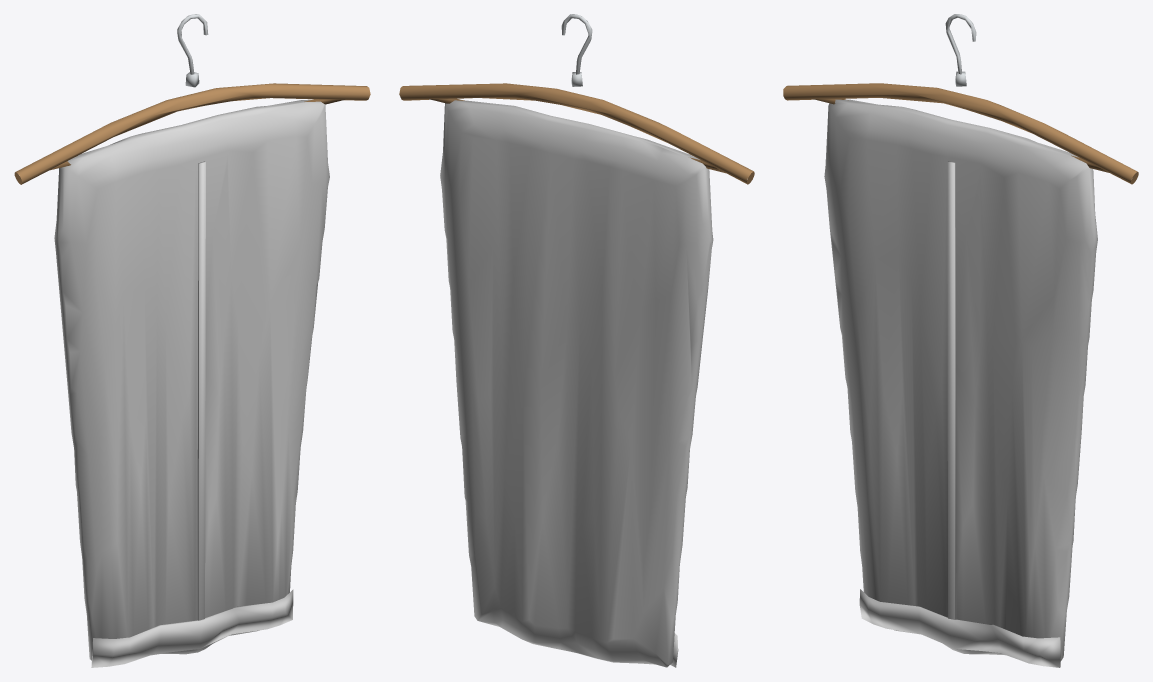
The model's file is trousers-lightweight-b6b6744ce2.glb.
The picture shows the model from 3 angles, left to right: view 1: azimuth 30°, elevation 25°; view 2: azimuth 150°, elevation 25°; view 3: azimuth 330°, elevation 25°; orthographic projection.
Parts seen in each view (by area): view 1: trousers; view 2: trousers; view 3: trousers.
Part boxes in pixels (left/top/right/bottom): trousers: left=14, top=14, right=370, bottom=667; trousers: left=399, top=14, right=754, bottom=667; trousers: left=783, top=14, right=1138, bottom=667.
Size of the model in its own units: 0.414 by 0.7186 by 0.0486.
